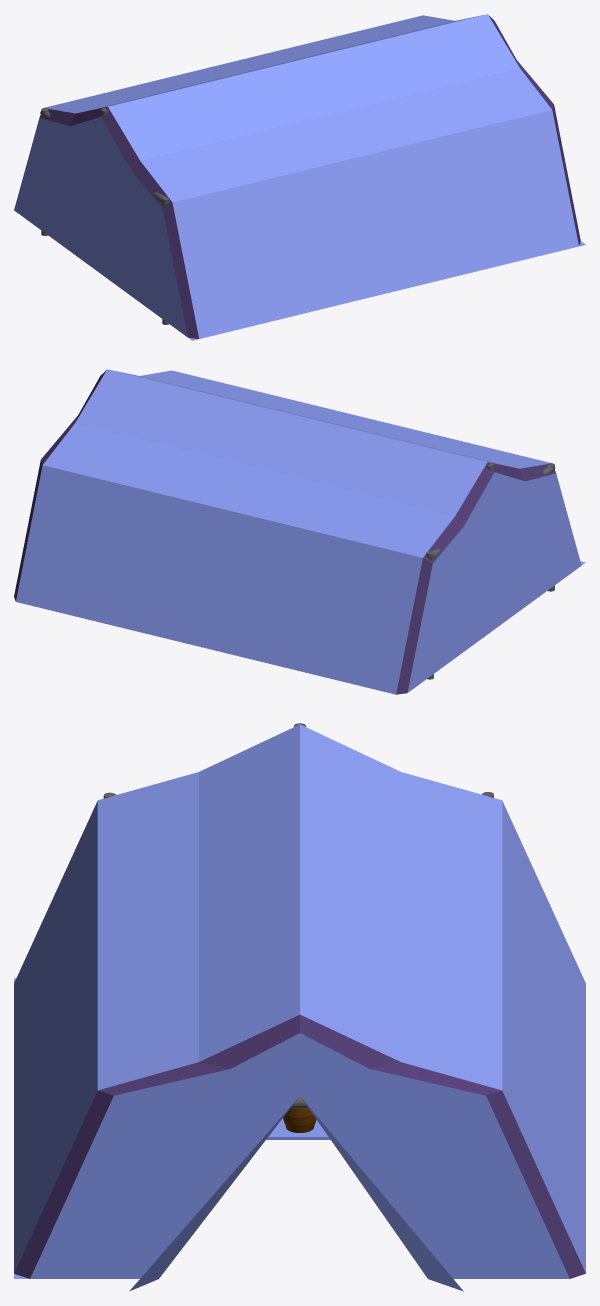
The picture shows the model from 3 angles, top to bottom: view 1: azimuth 30°, elevation 25°; view 2: azimuth 150°, elevation 25°; view 3: azimuth 270°, elevation 25°; orthographic projection. The views are drawn at different scales.
Visible parts, largest first — view 1: 仓库; view 2: 仓库; view 3: 仓库.
Part boxes in pixels (x1,y1,x2,y2): 仓库: (14, 14, 585, 340); 仓库: (14, 369, 585, 694); 仓库: (14, 723, 585, 1291).
Size of the model in its own units: 4149 by 1658 by 3200.
